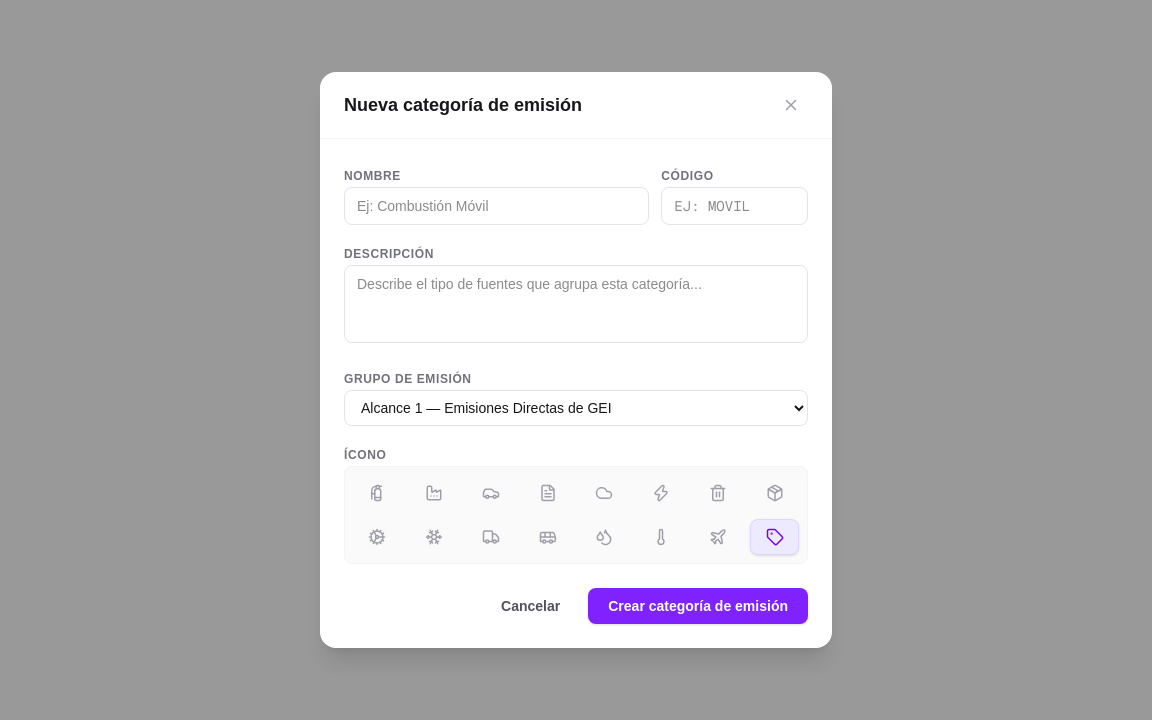
it: EmissionSourceCategoryFormModal › C-04 — Nombre con 1 caracter falla validación › muestra error de longitud mínima del nombre
Type "A" into the field with placeholder "Ej: Combustión Móvil" at (497, 206), box [344,187,649,225]
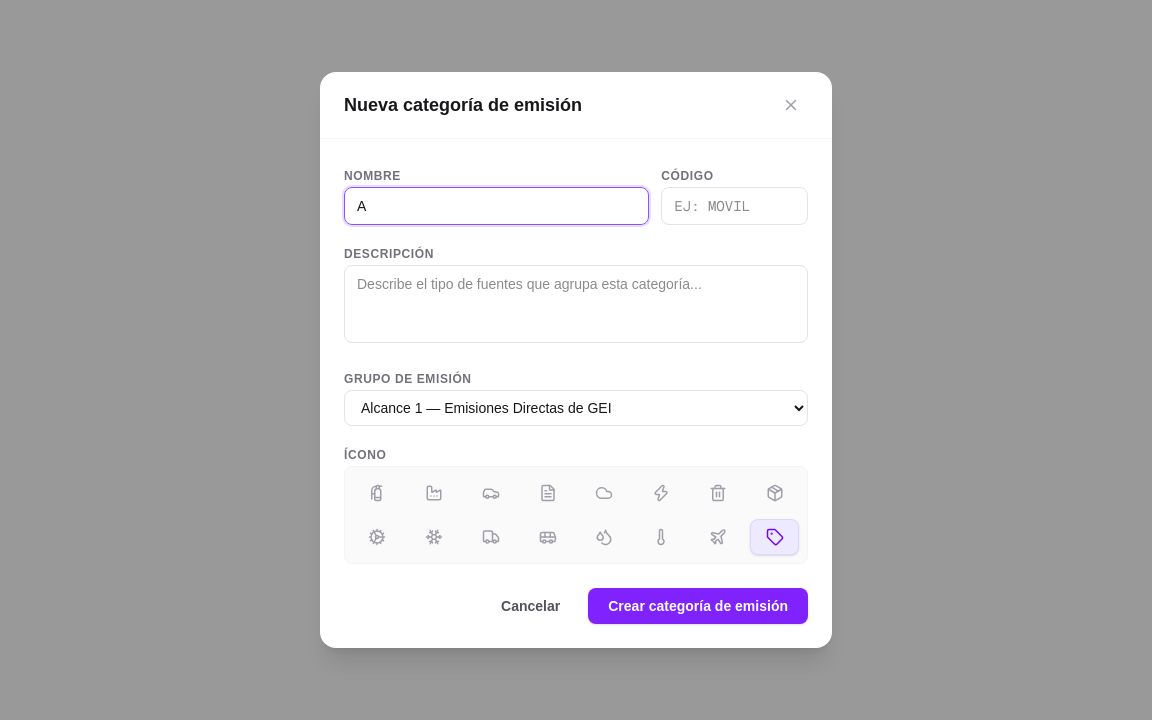
Click the button "Crear categoría de emisión" at (698, 606), box [588,588,808,624]
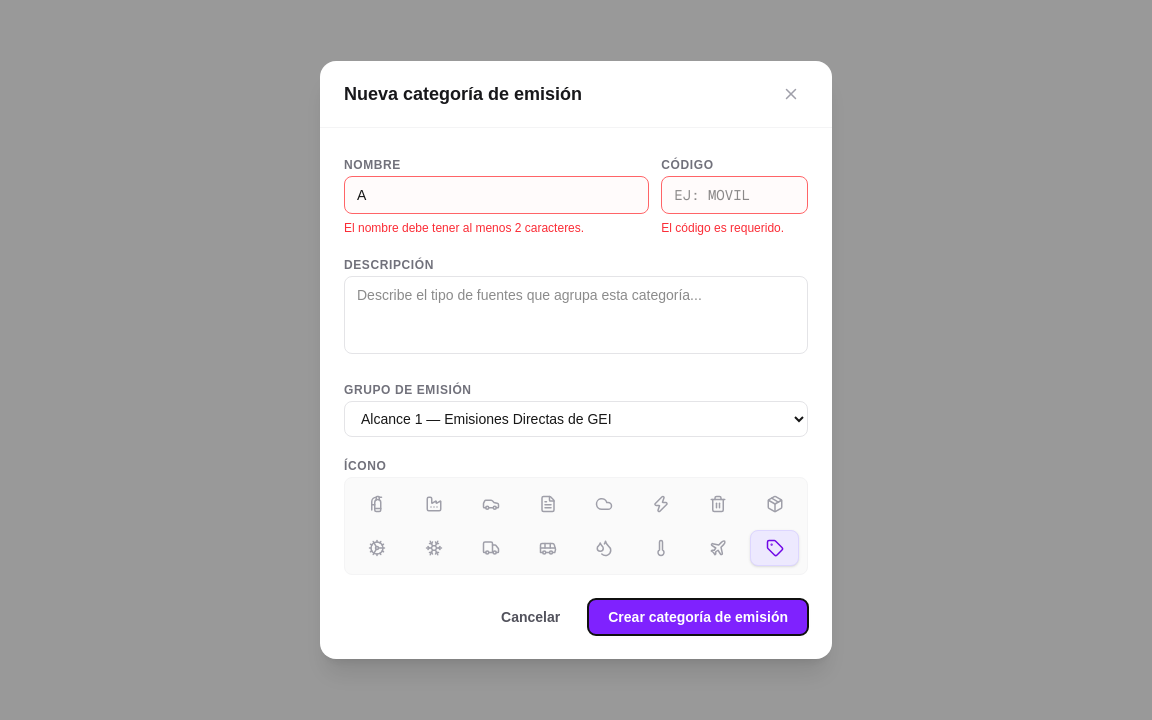
Expected: the text "El nombre debe tener al menos 2 caracteres." is shown, [344,221,584,235]
